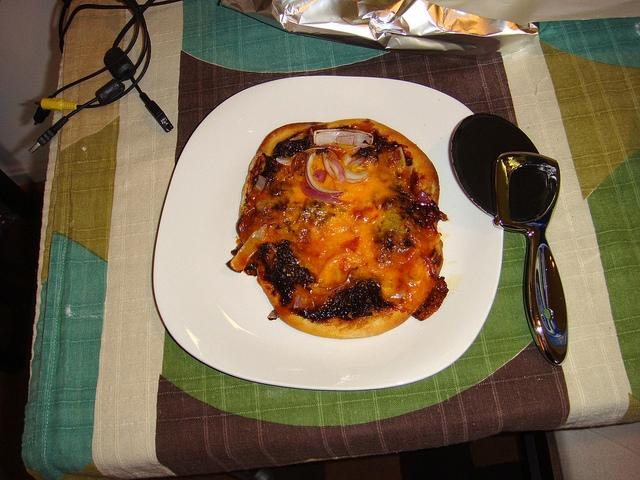onion: (227, 224, 270, 273), (306, 152, 345, 194), (300, 180, 347, 206), (313, 128, 373, 148), (344, 157, 368, 183), (325, 156, 345, 184), (420, 253, 438, 277), (417, 191, 434, 208), (254, 175, 266, 192), (276, 156, 295, 166), (314, 170, 328, 183)
